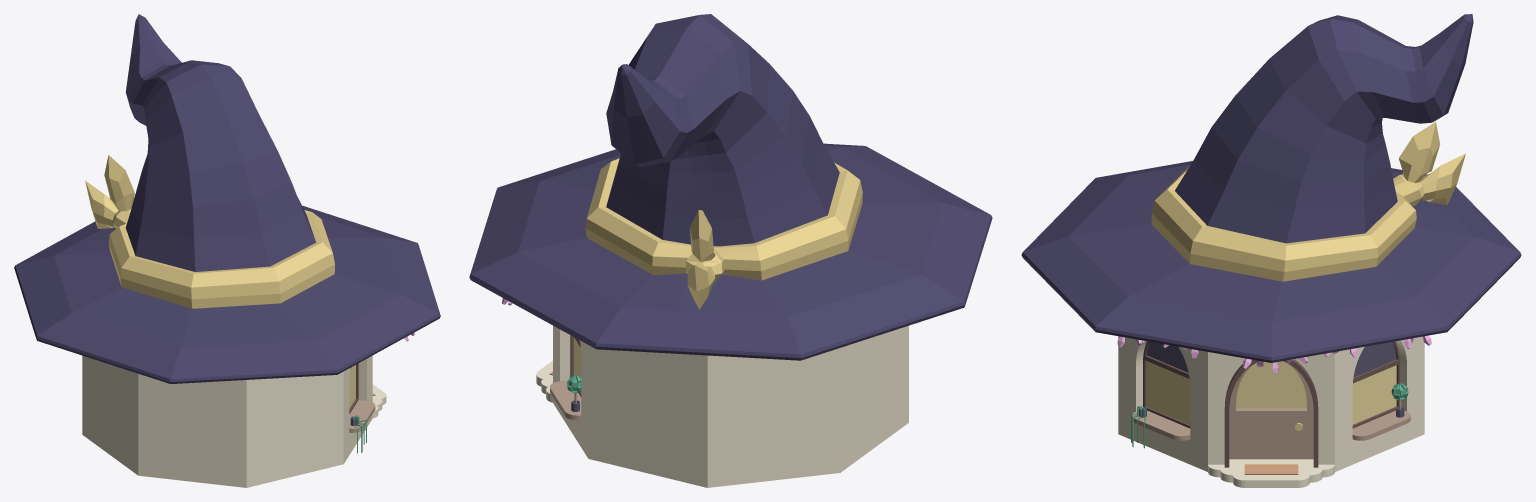
File: Cottage.fbx
3 renders of one model, left to right at view 1: azimuth 30°, elevation 25°; view 2: azimuth 150°, elevation 25°; view 3: azimuth 270°, elevation 25°, orthographic. The views are drawn at different scales.
Visible parts, largest first — view 1: Cube; view 2: Cube; view 3: Cube.
Boxes of the visible parts, left/top/right/bottom form: Cube: left=14, top=14, right=440, bottom=487; Cube: left=469, top=14, right=992, bottom=487; Cube: left=1021, top=14, right=1521, bottom=487.
Size of the model in its own units: 603 by 523 by 603.
